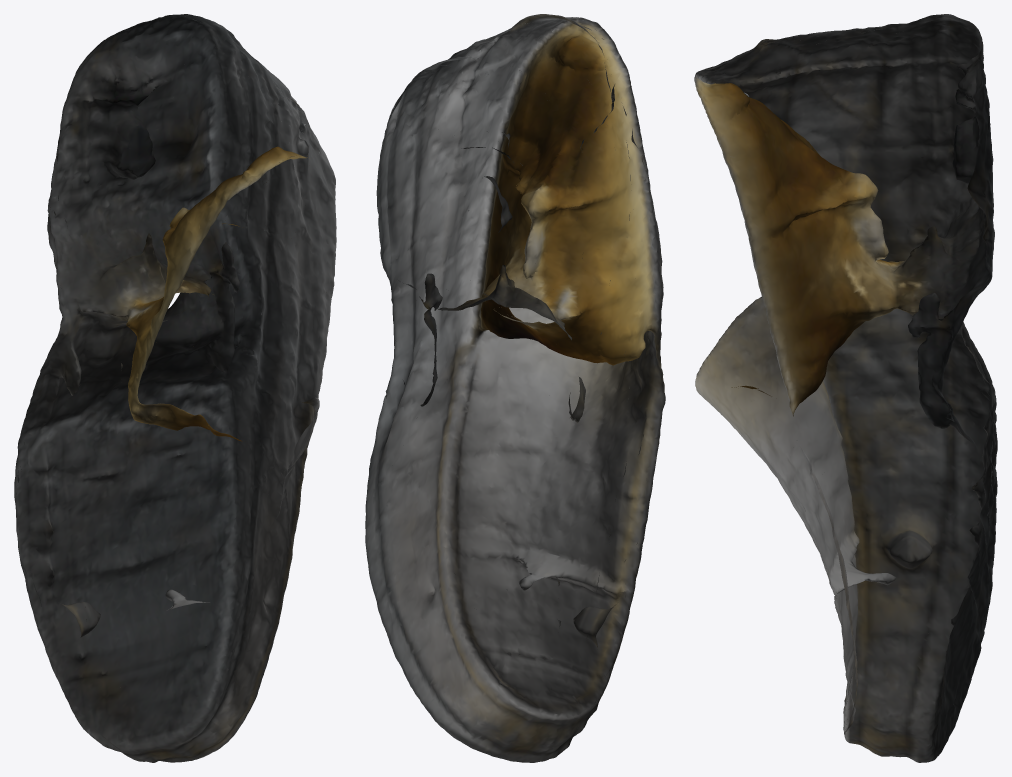
The model's file is leather.glb.
3 renders of one model, left to right at view 1: azimuth 30°, elevation 25°; view 2: azimuth 150°, elevation 25°; view 3: azimuth 270°, elevation 25°, orthographic. The views are drawn at different scales.
Size of the model in its own units: 0.3552 by 1 by 0.3761.
